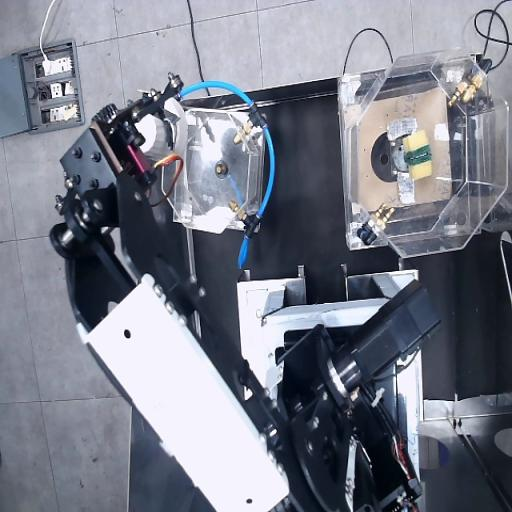cup in rinse station: (135, 99, 187, 162)
